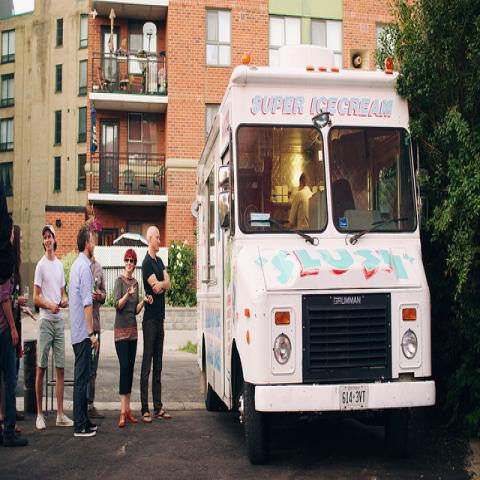truck: (195, 47, 438, 466)
